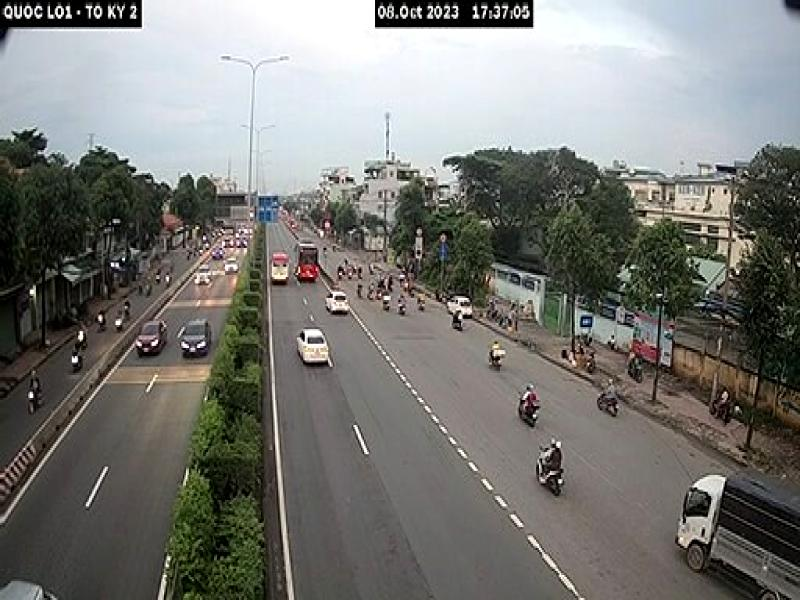car: (135, 317, 170, 362), (297, 328, 332, 370), (181, 318, 213, 360)
truck: (680, 477, 800, 600)
